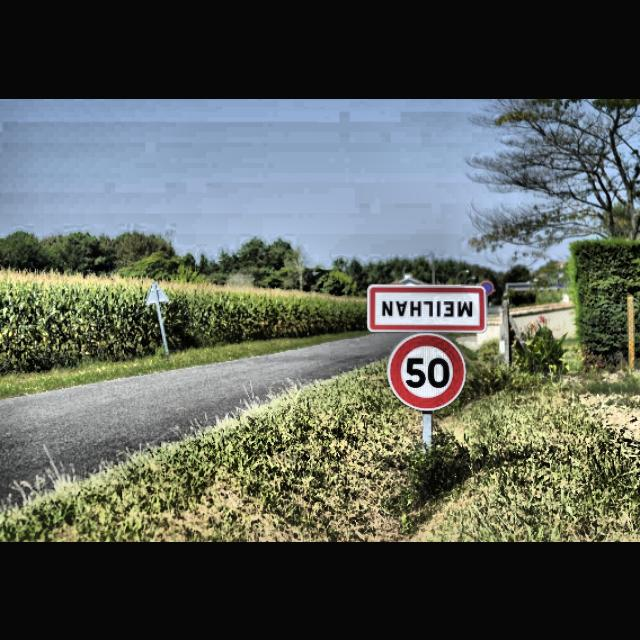speed_50: (388, 332, 466, 411)
